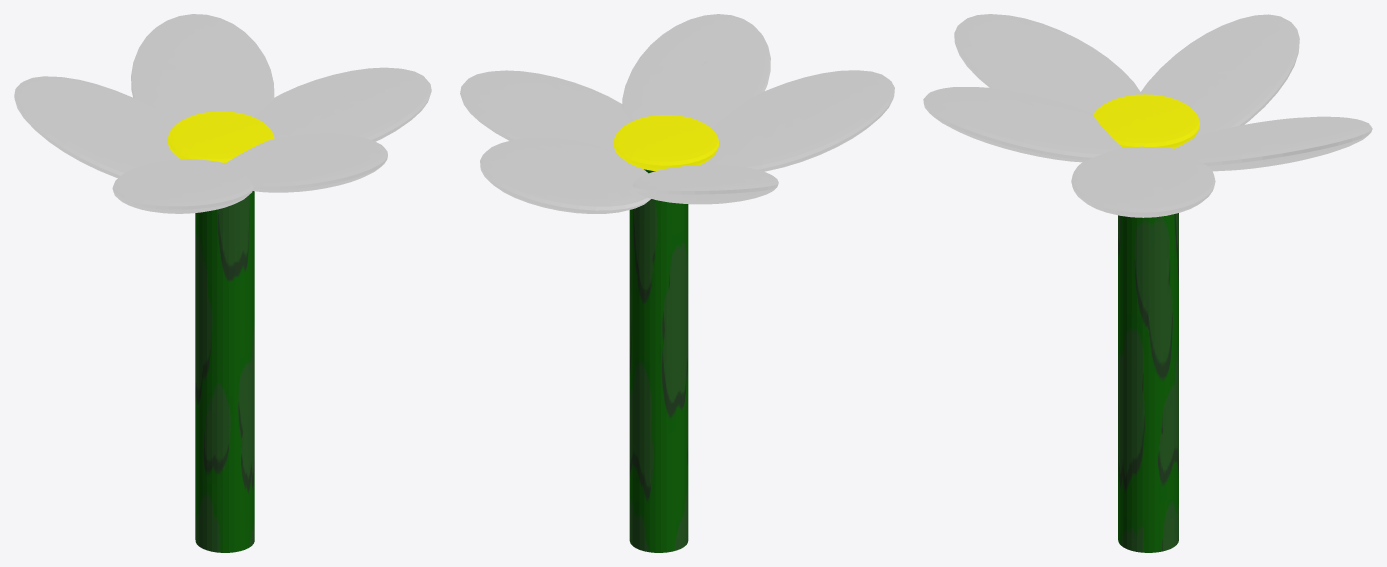
File: item-flower-white.glb
The picture shows the model from 3 angles, left to right: view 1: azimuth 30°, elevation 25°; view 2: azimuth 150°, elevation 25°; view 3: azimuth 270°, elevation 25°; orthographic projection. The views are drawn at different scales.
Bounding box in the file's own units: 1.3 × 1.54 × 1.36.
3 materials, 1 textured.
